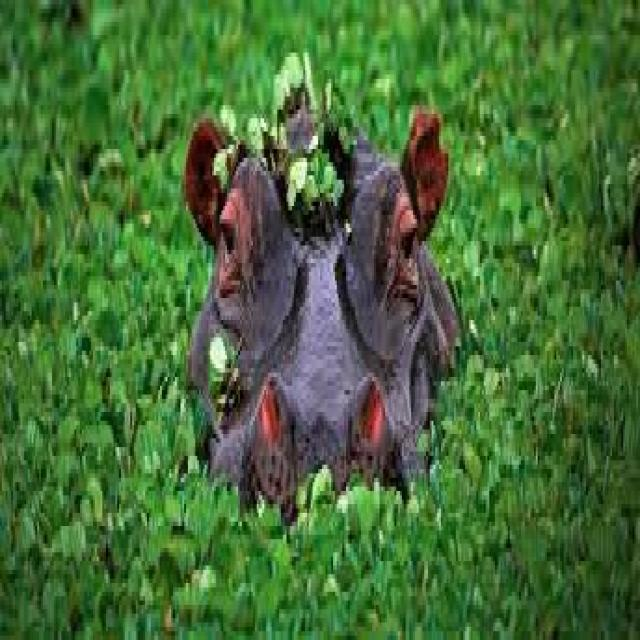Hippopotamus: (176, 102, 454, 506)
